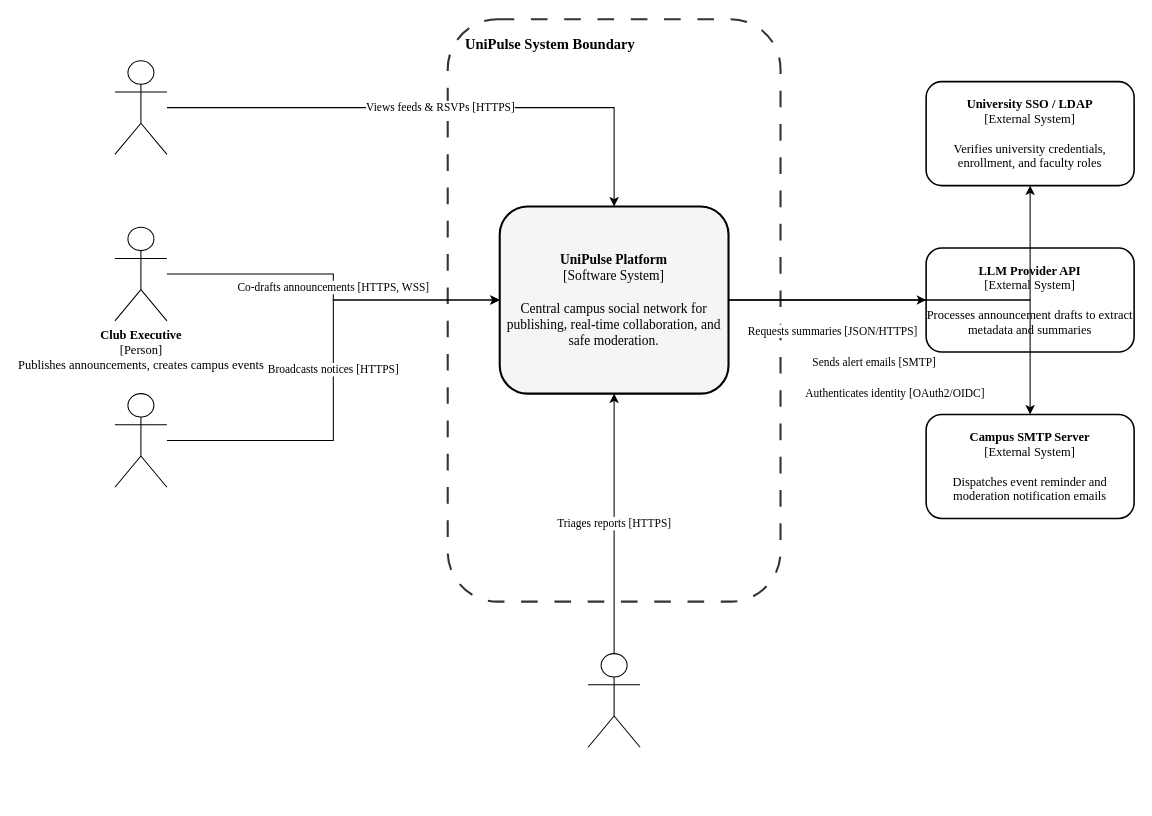
This 1152x816 diagram has some shape labels left out. The shapes that lost their labels are listed below. From the top down, each one's centre as x and y in pixels, then its label:
the point at 140,107: Student [Person] Discovers events, joins spaces, reads updates
the point at 140,440: Faculty / Admin [Person] Broadcasts official notices and policies
the point at 613,700: Moderator [Person] Enforces guidelines and triages flagged reports
